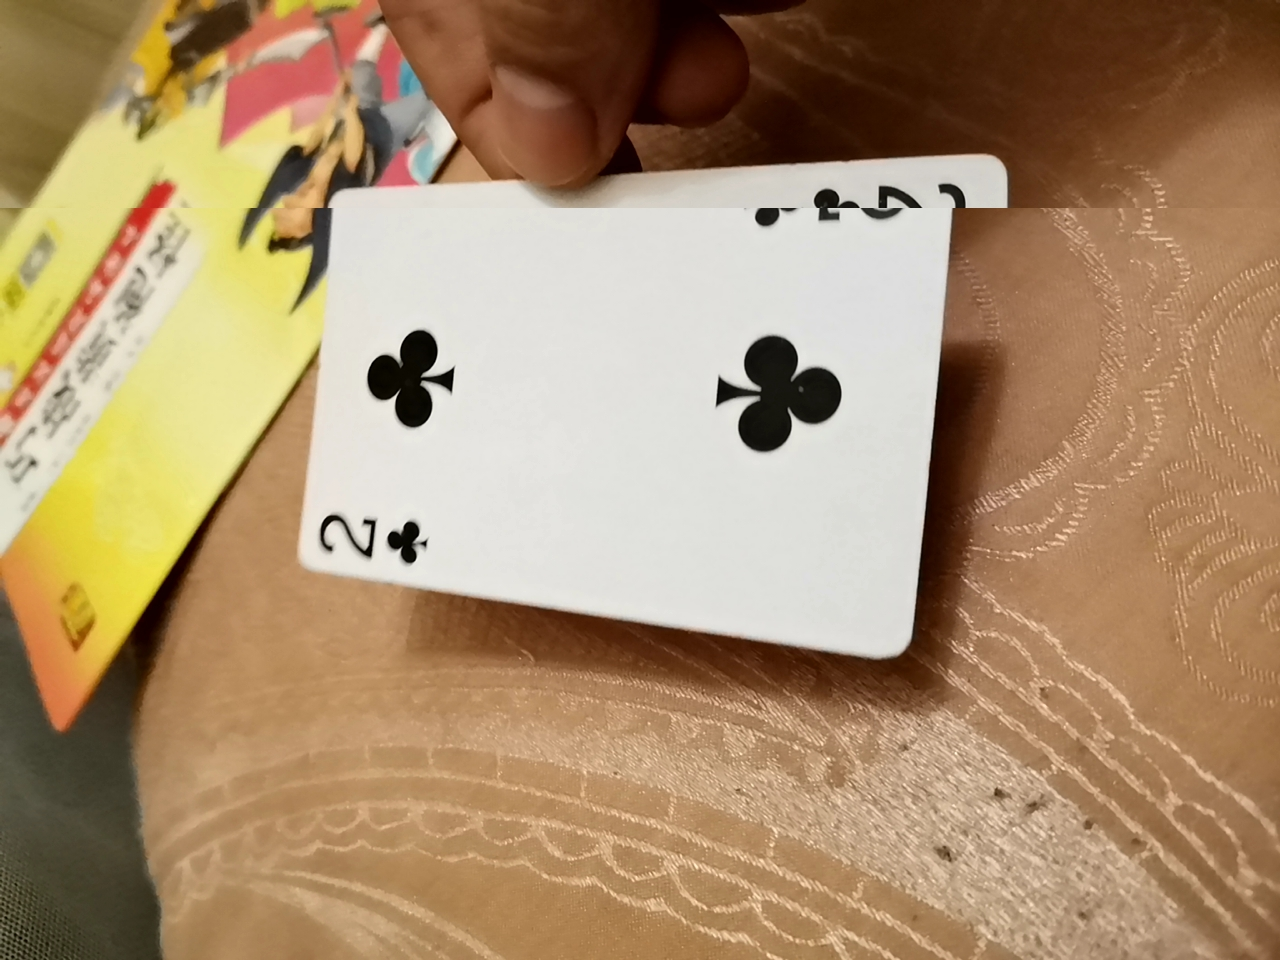mh 2: (303, 146, 996, 649)
